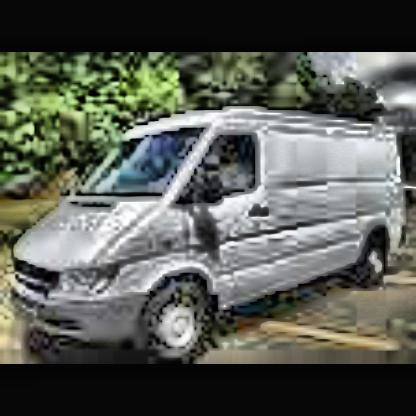Dodge Sprinter Cargo Van 2009: (5, 82, 413, 342)
